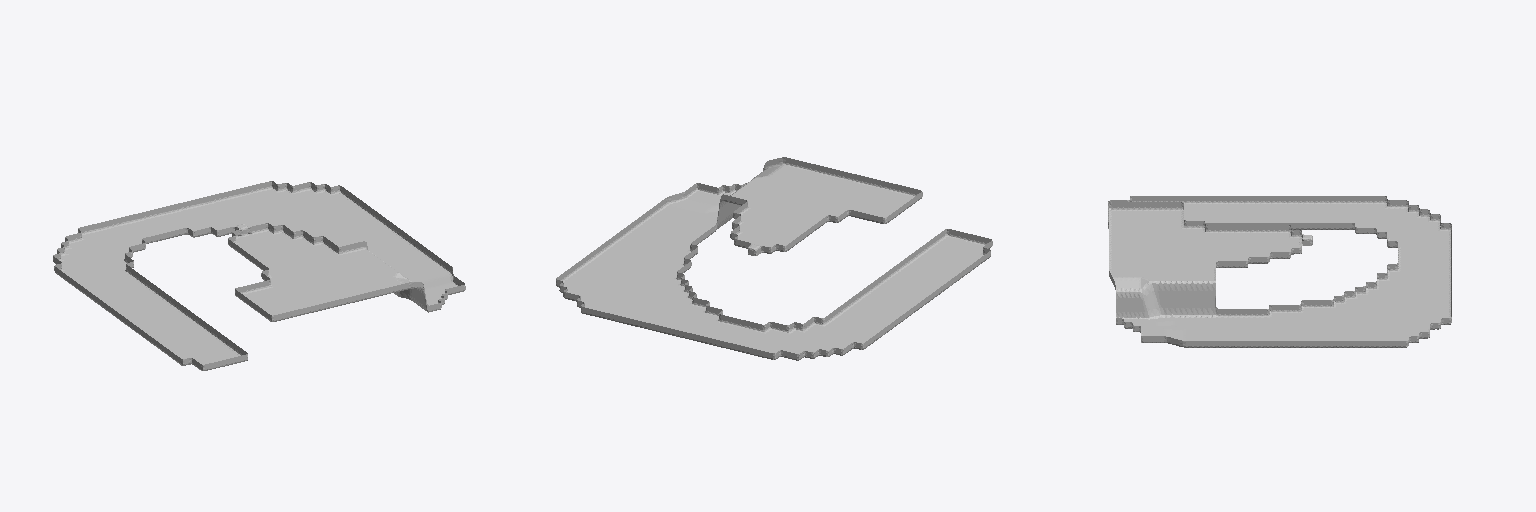
The model's file is level1.obj.
The picture shows the model from 3 angles: view 1: azimuth 30°, elevation 25°; view 2: azimuth 150°, elevation 25°; view 3: azimuth 270°, elevation 25°; orthographic projection.
Visible parts, largest first — view 1: Plane.001; view 2: Plane.001; view 3: Plane.001.
Part boxes in pixels (x1,y1,x2,y2): Plane.001: (53, 181, 465, 370); Plane.001: (556, 157, 992, 360); Plane.001: (1108, 196, 1451, 347).
Size of the model in its own units: 1007 by 127 by 1007.